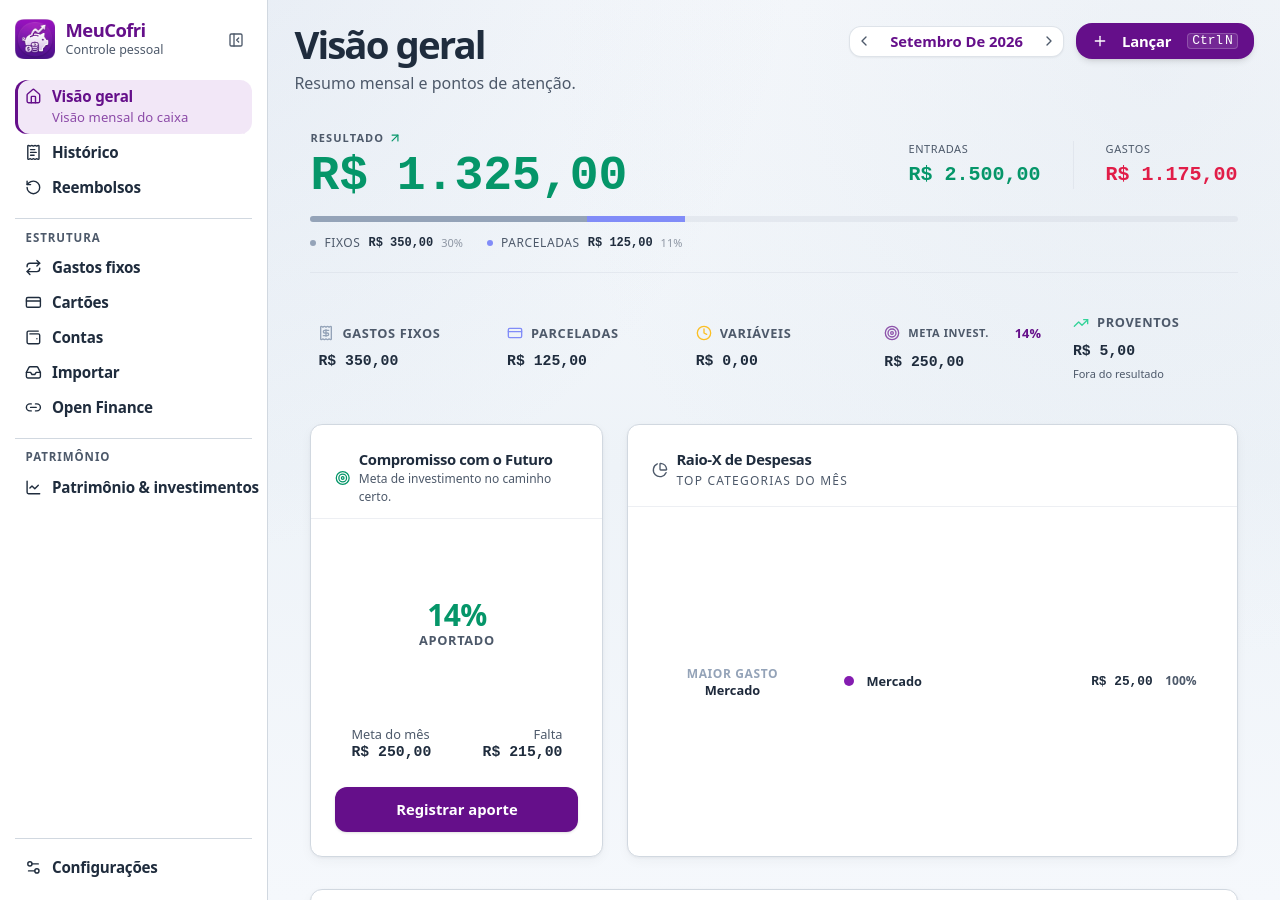
Test: App › shows the current investments workspace layout
Expected: the heading "Visão geral" is shown, 294,18 -> 484,70
Click the button "Patrimônio & investimentos". click: (142, 487)
box: 15,470 -> 268,504
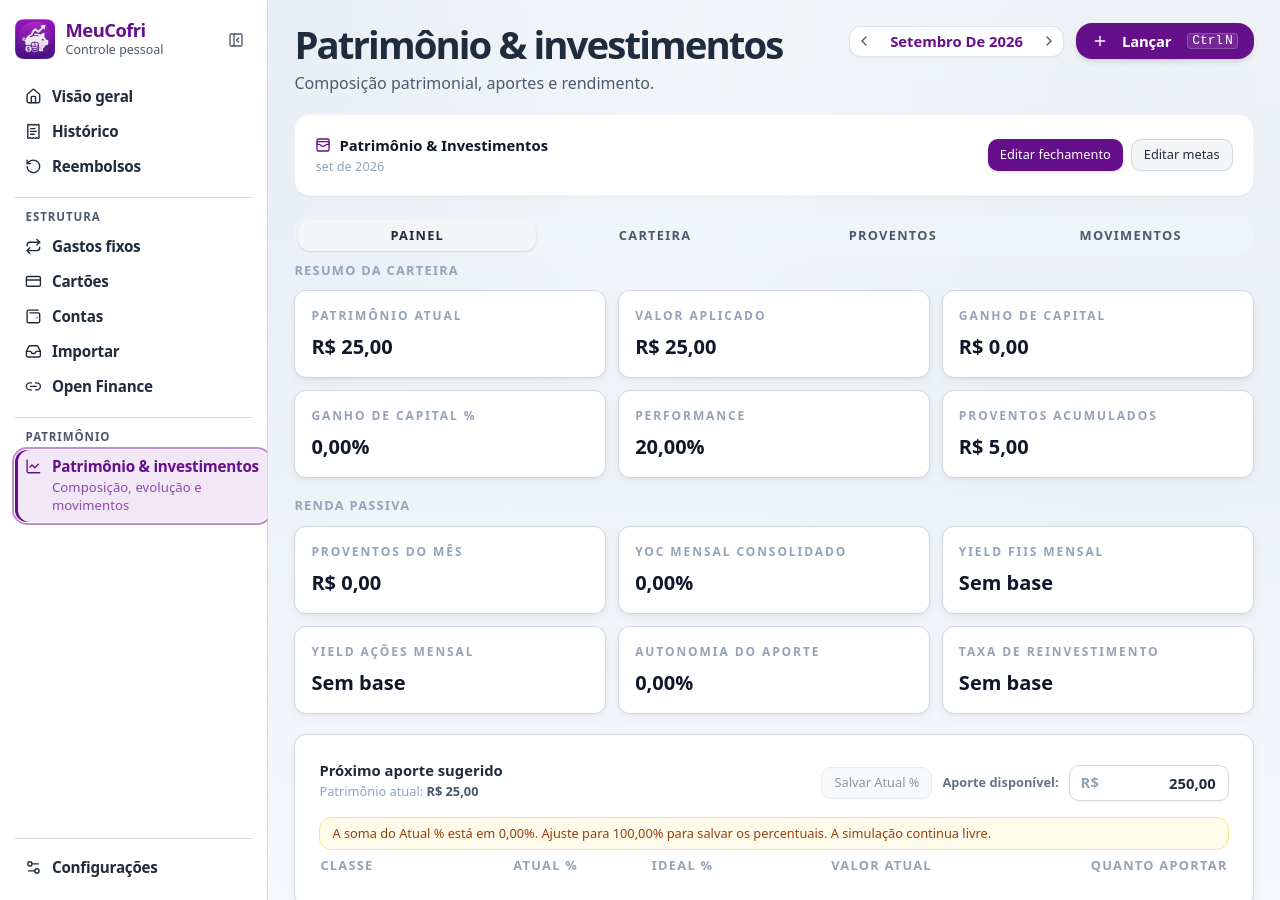
Result: the heading "Patrimônio & investimentos" is shown at 294,26 -> 782,64
